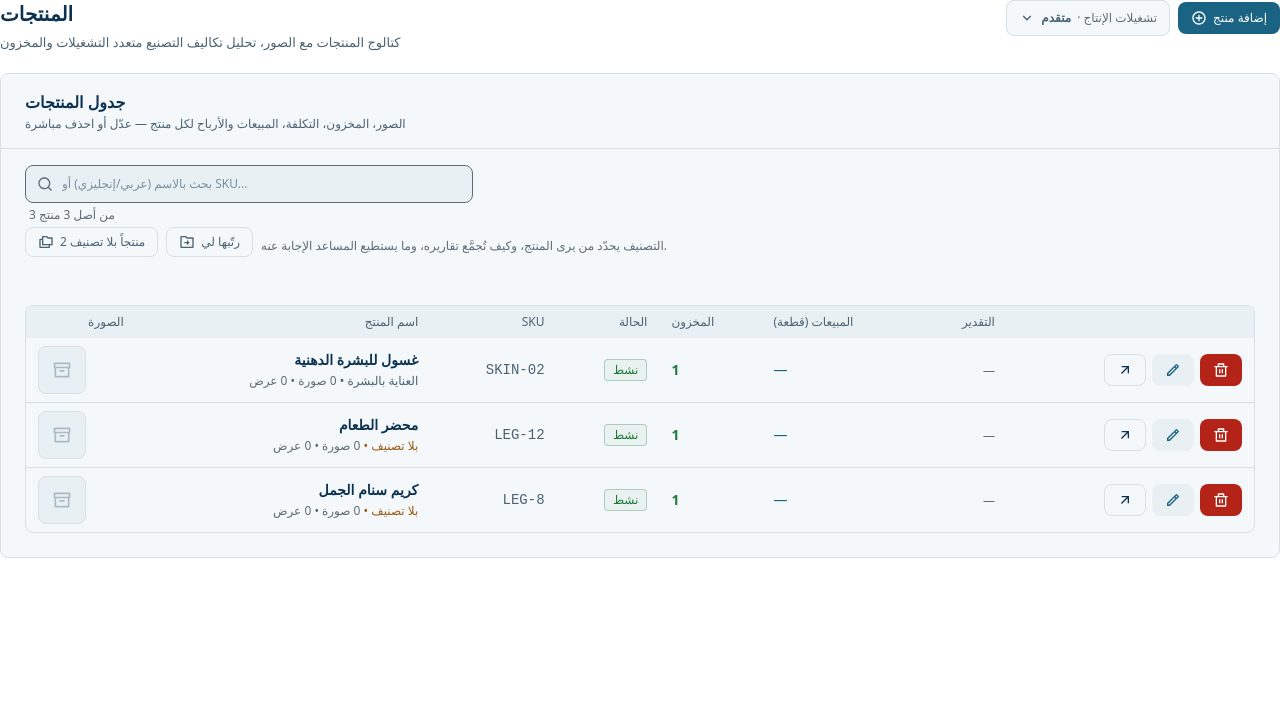
Test: the button › — opens the dialog on the products with no category and on no others
Expected: the text "محضر الطعام" is shown, x1=339 y1=415 x2=418 y2=434
Expected: the text "ترتيب المنتجات بلا تصنيف" is not shown
What coordinates should you click on to do the following:
click the button "رتّبها لي"
I would click on:
 (210, 242)
Its box is x1=166 y1=227 x2=253 y2=257.
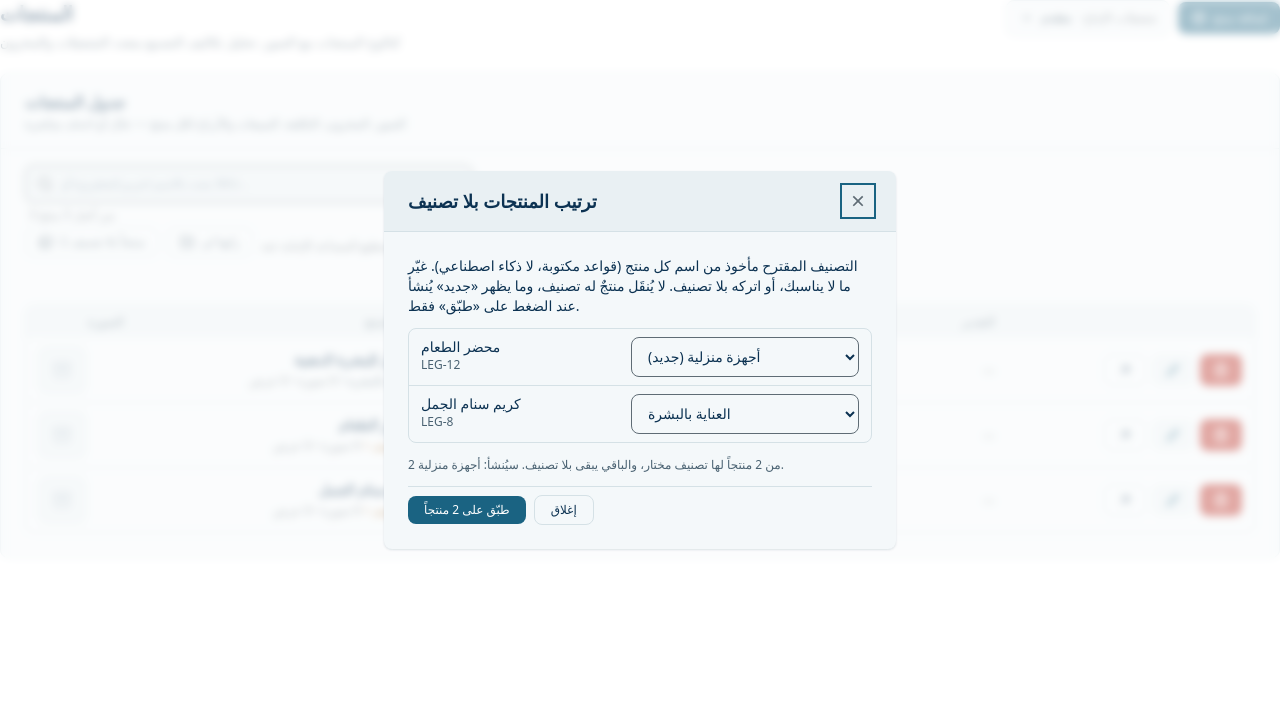
Now the heading "ترتيب المنتجات بلا تصنيف" is shown, box x1=408 y1=187 x2=597 y2=215
Now the dropdown named "تصنيف محضر الطعام" is shown, box x1=631 y1=337 x2=859 y2=377
Now the dropdown named "تصنيف كريم سنام الجمل" is shown, box x1=631 y1=394 x2=859 y2=434
